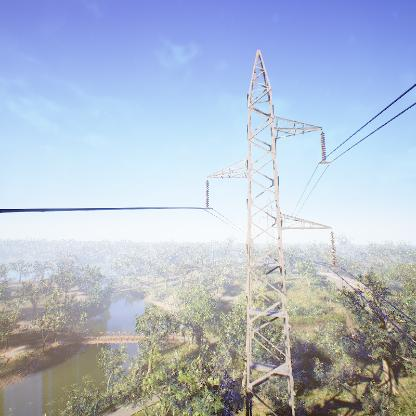tower: (202, 47, 338, 414)
